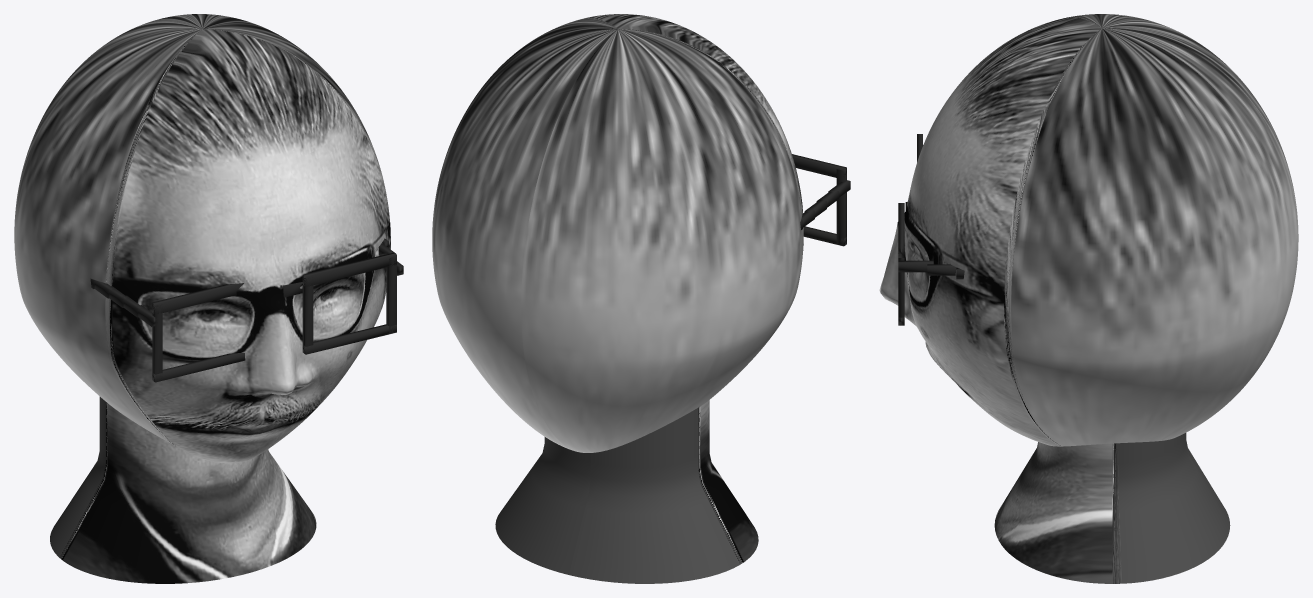
File: mujib-face.glb
3 views of the same model, side by side, from view 1: azimuth 30°, elevation 25°; view 2: azimuth 150°, elevation 25°; view 3: azimuth 270°, elevation 25° (orthographic).
Parts seen in each view (by area): view 1: head, glasses; view 2: head, glasses; view 3: head, glasses.
Boxes of the visible parts, box(x1,y1,x2,y2) form: head: box(14, 14, 390, 583); glasses: box(90, 238, 403, 382); head: box(432, 14, 803, 583); glasses: box(792, 154, 850, 246); head: box(879, 14, 1298, 583); glasses: box(898, 134, 964, 325).
Size of the model in its own units: 0.216 by 0.3228 by 0.2432.
2 materials, 1 textured.
